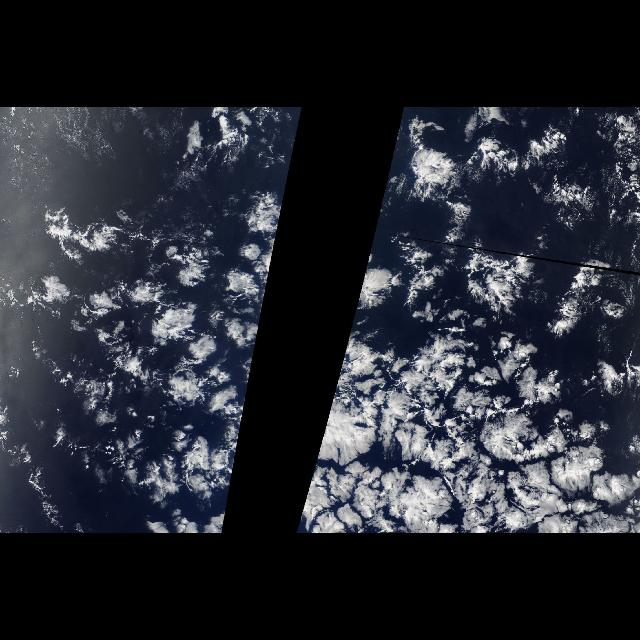Flower: (295, 214, 639, 532), (14, 195, 288, 531)
